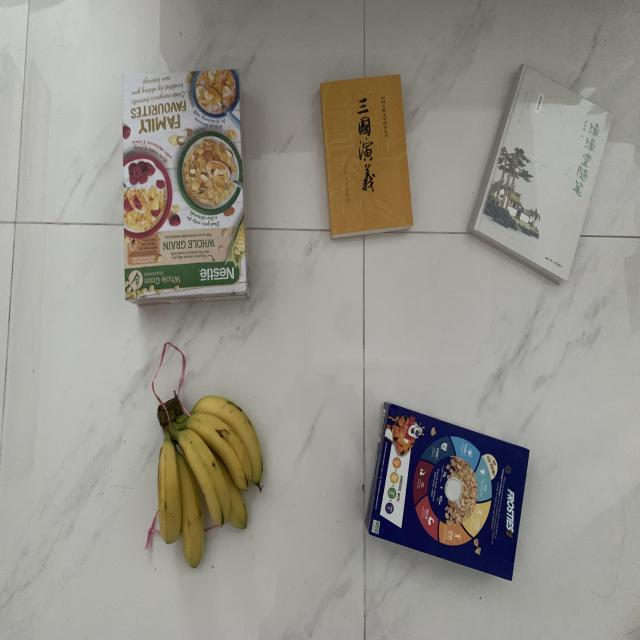Banana: (151, 390, 271, 572)
Book: (465, 60, 616, 288), (316, 72, 418, 243)
Cerealbox: (122, 63, 252, 310), (363, 397, 532, 584)
